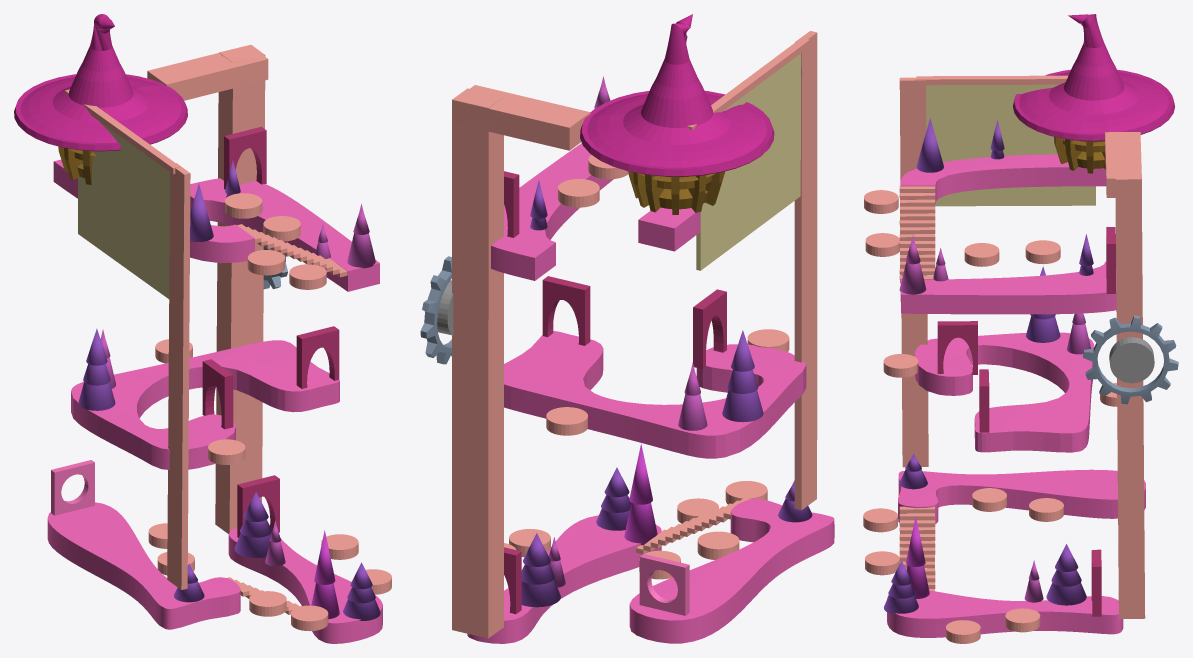
3 views of the same model, side by side, from view 1: azimuth 30°, elevation 25°; view 2: azimuth 150°, elevation 25°; view 3: azimuth 270°, elevation 25° (orthographic). The views are drawn at different scales.
Parts seen in each view (by area): view 1: 物件_333, 锥体.051, 柱体.092, 柱体.094, 柱体.093, 柱体.095, 柱体.100, 柱体.102, 柱体.103, 柱体.097; view 2: 物件_333, 锥体.051, gear12_gears_0, 柱体.102, 柱体.101, 柱体.098, 柱体.094, 柱体.100, 柱体.095, 柱体, 柱体.096, 柱体.103; view 3: 物件_333, 锥体.051, gear12_gears_0, 柱体, 柱体.097, 柱体.102, 柱体.103, 柱体.098, 柱体.099, 柱体.094, 柱体.092, 柱体.096 (+3 smaller).
Boxes of the visible parts, x1,y1,x2,y2 form: 物件_333: (14,14,382,643); 锥体.051: (71,326,339,469); 柱体.092: (247,250,285,275); 柱体.094: (249,591,286,616); 柱体.093: (289,264,326,289); 柱体.095: (291,605,328,631); 柱体.100: (208,439,245,464); 柱体.102: (225,193,262,218); 柱体.103: (263,216,300,241); 柱体.097: (321,534,358,559); 物件_333: (452,14,834,643); 锥体.051: (504,276,806,458); gear12_gears_0: (420,256,451,364); 柱体.102: (558,179,599,207); 柱体.101: (546,407,587,435); 柱体.098: (697,531,739,559); 柱体.094: (725,481,767,504); 柱体.100: (747,329,789,351); 柱体.095: (677,498,718,523); 柱体: (437,280,453,335); 柱体.096: (509,529,550,557); 柱体.103: (588,155,628,179); 物件_333: (884,14,1174,637); 锥体.051: (915,266,1094,452); gear12_gears_0: (1083,315,1178,404); 柱体: (1109,337,1154,383); 柱体.097: (1005,608,1040,632); 柱体.102: (1025,240,1060,264); 柱体.103: (964,243,999,266); 柱体.098: (972,488,1006,511); 柱体.099: (1029,498,1063,521); 柱体.094: (863,508,897,532); 柱体.092: (864,190,898,213); 柱体.096: (946,620,980,643).
Bounding box in the file's own units: 2843 × 5367 × 2840.
